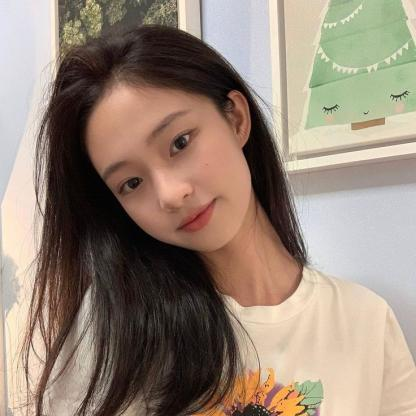person: (61, 35, 269, 257)
